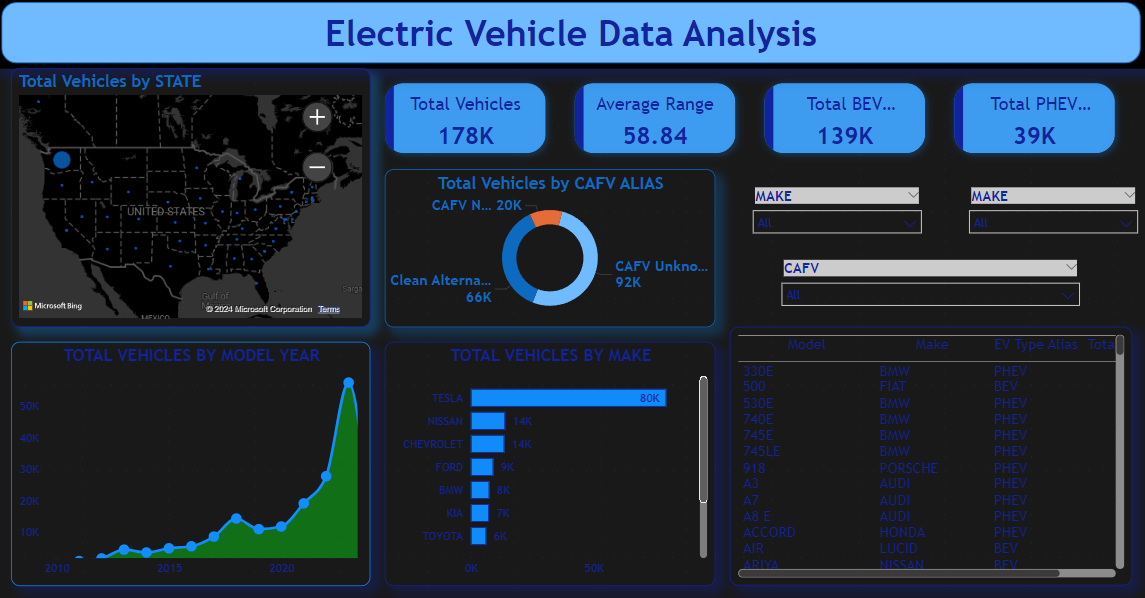

The dashboard page shown, as its layout file describes it:
{"tool":"powerbi","page":{"name":"Page 1","canvas":[1280,720],"ordinal":0},"visuals":[{"type":"cardVisual","fields":{"Data":["Electric_Vehicle_Population_Data.Total Vehicles","Electric_Vehicle_Population_Data.Average Range","Electric_Vehicle_Population_Data.Total BEV Vehichles","Electric_Vehicle_Population_Data.Total PHEV Vehicle"]},"box":[416,128,848,112],"z":0},{"type":"shape","box":[0,48,1280,80],"z":1000},{"type":"donutChart","fields":{"Category":["Electric_Vehicle_Population_Data.CAFV ALIAS"],"Y":["Electric_Vehicle_Population_Data.Total Vehicles"]},"box":[432,240,368,176],"z":2000},{"type":"map","title":"Total Vehicles by STATE","fields":{"Category":["Electric_Vehicle_Population_Data.State"],"Size":["Electric_Vehicle_Population_Data.Total Vehicles"]},"box":[16,128,400,288],"z":3000},{"type":"lineChart","title":"TOTAL VEHICLES BY MODEL YEAR","fields":{"Category":["Electric_Vehicle_Population_Data.Model Year"],"Y":["Electric_Vehicle_Population_Data.Total Vehicles"]},"box":[16,432,400,272],"z":4000},{"type":"clusteredBarChart","title":"TOTAL VEHICLES BY MAKE","fields":{"Category":["Electric_Vehicle_Population_Data.Make"],"Y":["Electric_Vehicle_Population_Data.Total Vehicles"]},"box":[432,432,368,272],"z":5000},{"type":"tableEx","fields":{"Values":["Electric_Vehicle_Population_Data.Model","Electric_Vehicle_Population_Data.Make","Electric_Vehicle_Population_Data.EV Type Alias","Electric_Vehicle_Population_Data.Total Vehicles"]},"box":[816,416,448,288],"z":6000},{"type":"slicer","fields":{"Values":["Electric_Vehicle_Population_Data.Make"]},"box":[832,256,208,64],"z":7000},{"type":"slicer","fields":{"Values":["Electric_Vehicle_Population_Data.EV Type Alias"]},"box":[1072,256,208,64],"z":8000},{"type":"slicer","fields":{"Values":["Electric_Vehicle_Population_Data.CAFV ALIAS"]},"box":[864,336,352,64],"z":9000}]}

Visuals, with their boxes on the page's 1280x720 design canvas (x1, y1, x2, y2). These are canvas units, not pixel positions in the 1145x598 screenshot, which may show the page scaled, cropped or inside an application window:
cardVisual - Electric_Vehicle_Population_Data.Total Vehicles x Electric_Vehicle_Population_Data.Average Range: BBox(416, 128, 1264, 240)
shape: BBox(0, 48, 1280, 128)
donutChart - Electric_Vehicle_Population_Data.CAFV ALIAS x Electric_Vehicle_Population_Data.Total Vehicles: BBox(432, 240, 800, 416)
"Total Vehicles by STATE" map: BBox(16, 128, 416, 416)
"TOTAL VEHICLES BY MODEL YEAR" lineChart: BBox(16, 432, 416, 704)
"TOTAL VEHICLES BY MAKE" clusteredBarChart: BBox(432, 432, 800, 704)
tableEx - Electric_Vehicle_Population_Data.Model x Electric_Vehicle_Population_Data.Make: BBox(816, 416, 1264, 704)
slicer - Electric_Vehicle_Population_Data.Make: BBox(832, 256, 1040, 320)
slicer - Electric_Vehicle_Population_Data.EV Type Alias: BBox(1072, 256, 1280, 320)
slicer - Electric_Vehicle_Population_Data.CAFV ALIAS: BBox(864, 336, 1216, 400)
